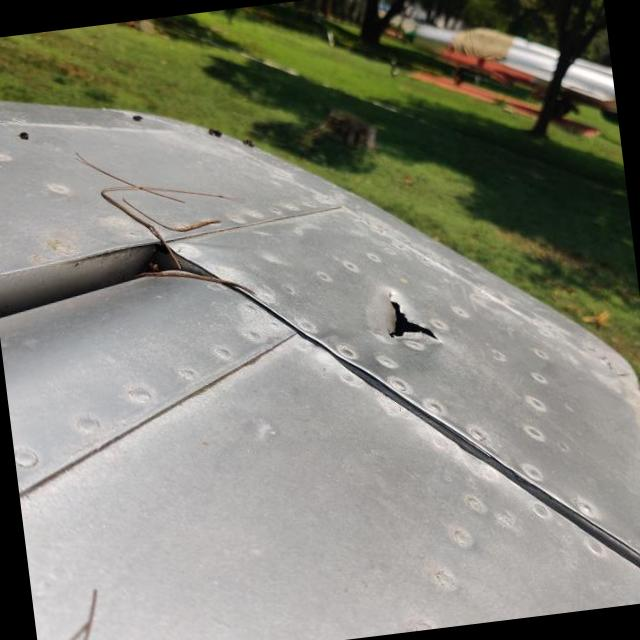Crack: (365, 287, 436, 339)
